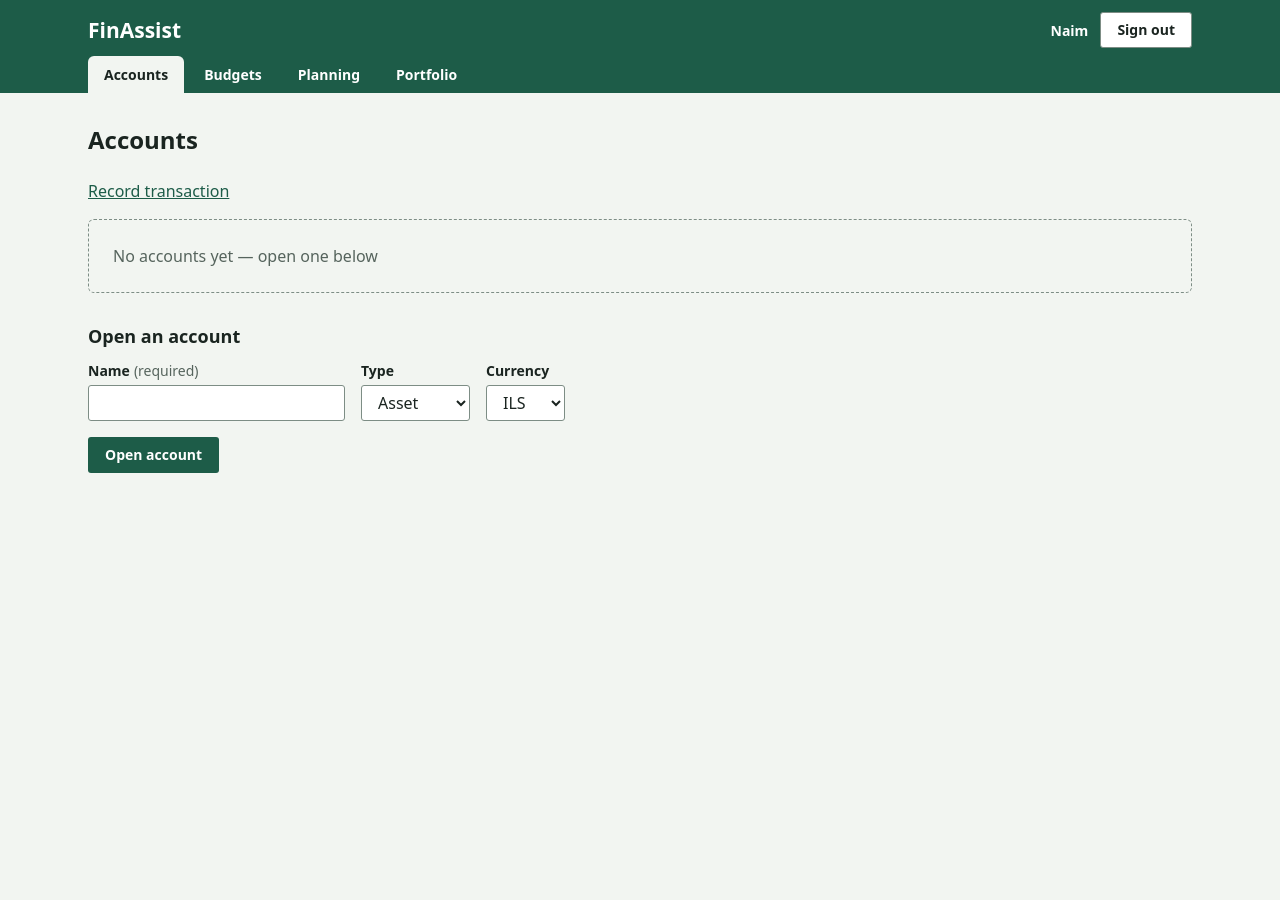
Test: App › Given_the_Accounts_area_When_Budgets_is_clicked_Then_the_Budgets_heading_is_shown
Step 1. Click the link "Budgets" → x=233, y=74, box [204,65,262,84]
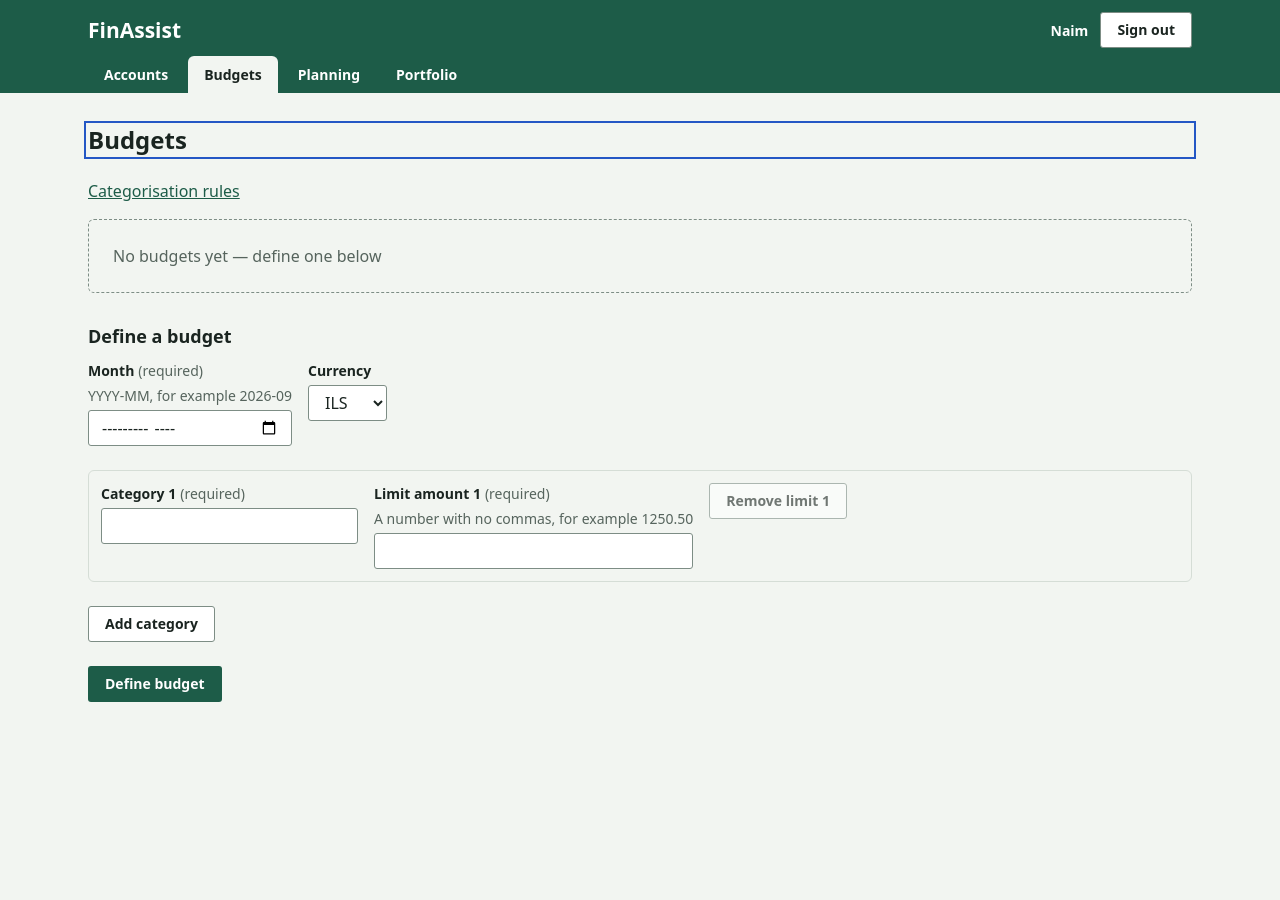
Expected: the heading "Budgets" is shown, [88,123,187,156]
